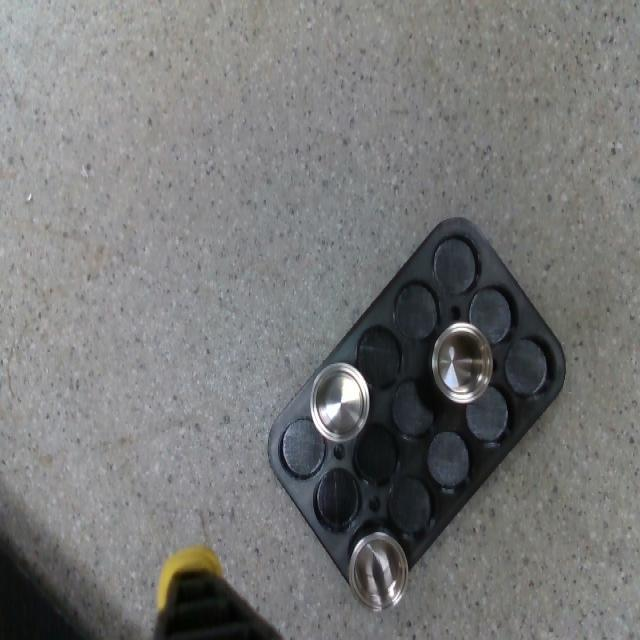sensor: (431, 324, 494, 404), (310, 362, 370, 443), (348, 533, 408, 610)
